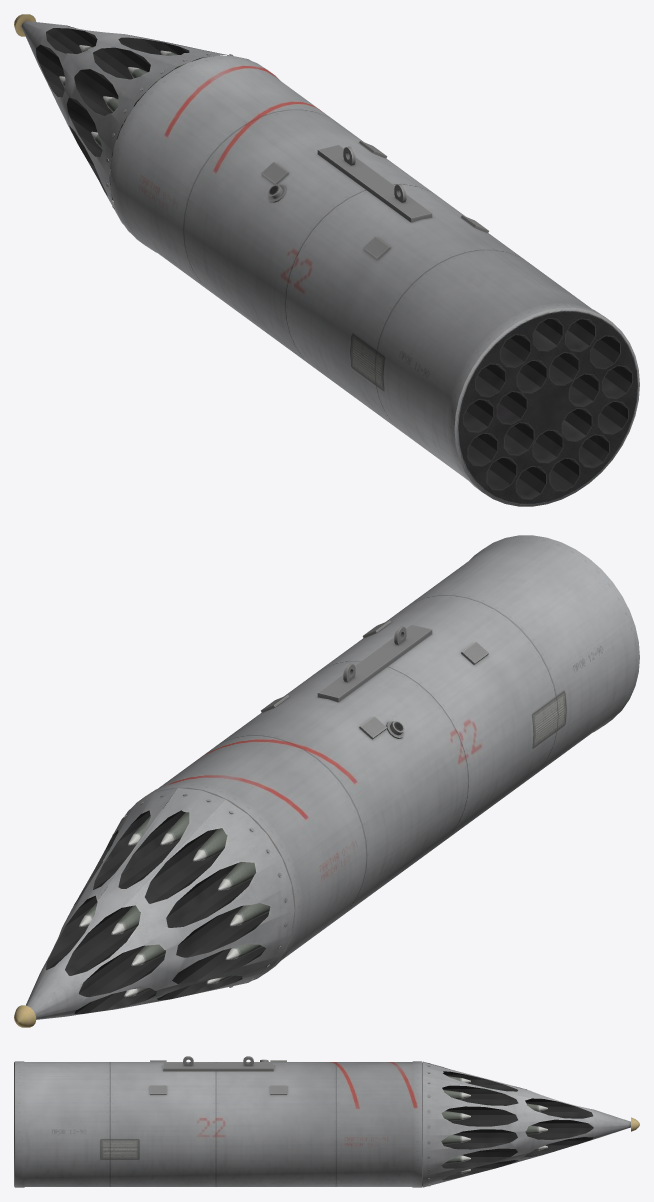
3 renders of one model, top to bottom at view 1: azimuth 30°, elevation 25°; view 2: azimuth 150°, elevation 25°; view 3: azimuth 270°, elevation 25°, orthographic. The views are drawn at different scales.
Parts seen in each view (by area): view 1: B8_body, cone, B8_fixed; view 2: B8_body, cone, B8_fixed; view 3: B8_body, cone, B8_fixed, cone_r11, cone_r10.
Part boxes in pixels (x1=…): B8_body: x1=110, y1=55, x2=639, y2=506; cone: x1=14, y1=14, x2=250, y2=224; B8_fixed: x1=261, y1=140, x2=488, y2=259; B8_body: x1=125, y1=535, x2=639, y2=979; cone: x1=14, y1=788, x2=294, y2=1027; B8_fixed: x1=261, y1=620, x2=488, y2=739; B8_body: x1=14, y1=1061, x2=422, y2=1187; cone: x1=423, y1=1061, x2=639, y2=1187; B8_fixed: x1=150, y1=1056, x2=286, y2=1094; cone_r11: x1=441, y1=1111, x2=470, y2=1121; cone_r10: x1=441, y1=1134, x2=470, y2=1145.
Bounding box in the file's own units: 0.526 × 0.5744 × 2.6.
Materials: 4 (4 with a texture image).
